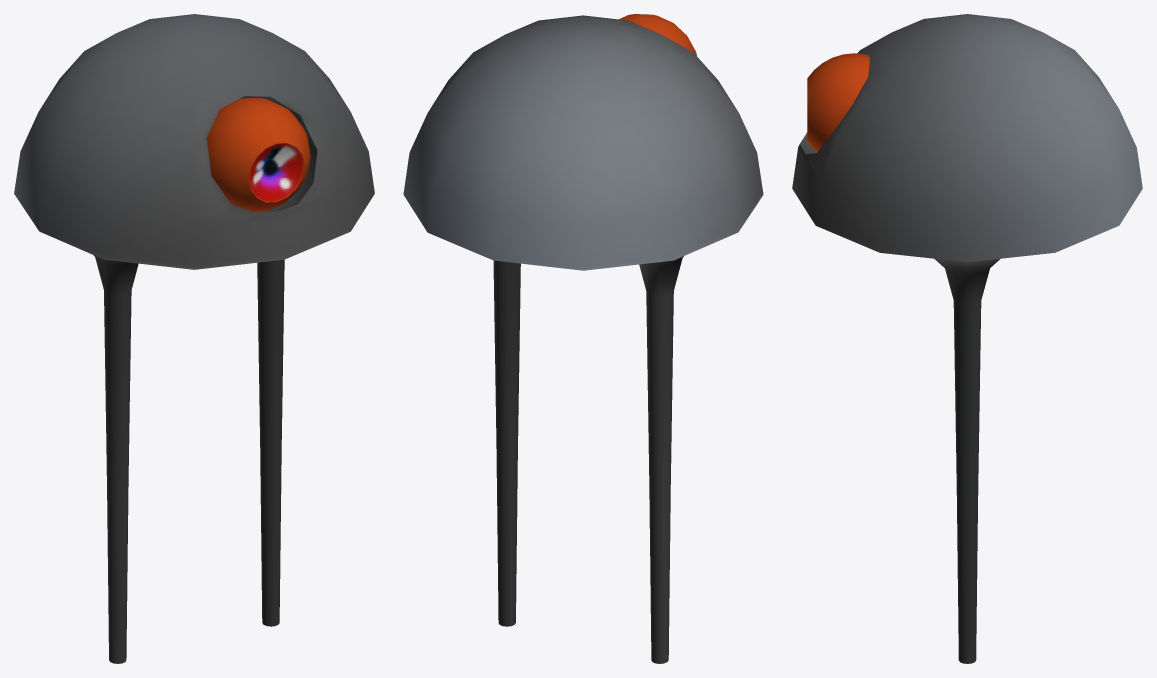
File: One_Eye_04.fbx
The picture shows the model from 3 angles, left to right: view 1: azimuth 30°, elevation 25°; view 2: azimuth 150°, elevation 25°; view 3: azimuth 270°, elevation 25°; orthographic projection. The views are drawn at different scales.
Visible parts, largest first — view 1: One_Eye_04, Eye_03; view 2: One_Eye_04, Eye_03; view 3: One_Eye_04, Eye_03.
Part boxes in pixels (box(x1,y1,x2,y2)): One_Eye_04: box(14, 14, 374, 663); Eye_03: box(206, 97, 310, 212); One_Eye_04: box(403, 15, 763, 663); Eye_03: box(619, 14, 696, 55); One_Eye_04: box(792, 14, 1142, 663); Eye_03: box(807, 53, 869, 151).
Size of the model in its own units: 18 by 33.86 by 18.1.
1 material, 1 textured.
